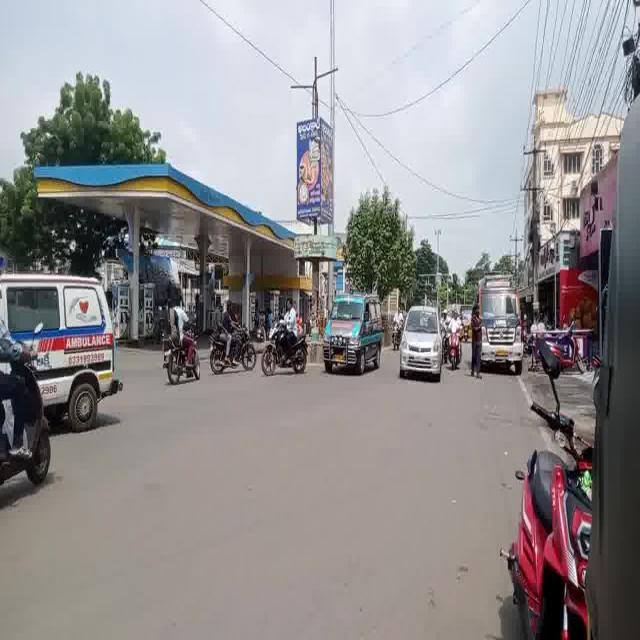ambulance: (1, 267, 121, 434), (478, 263, 530, 380), (326, 285, 380, 385)
